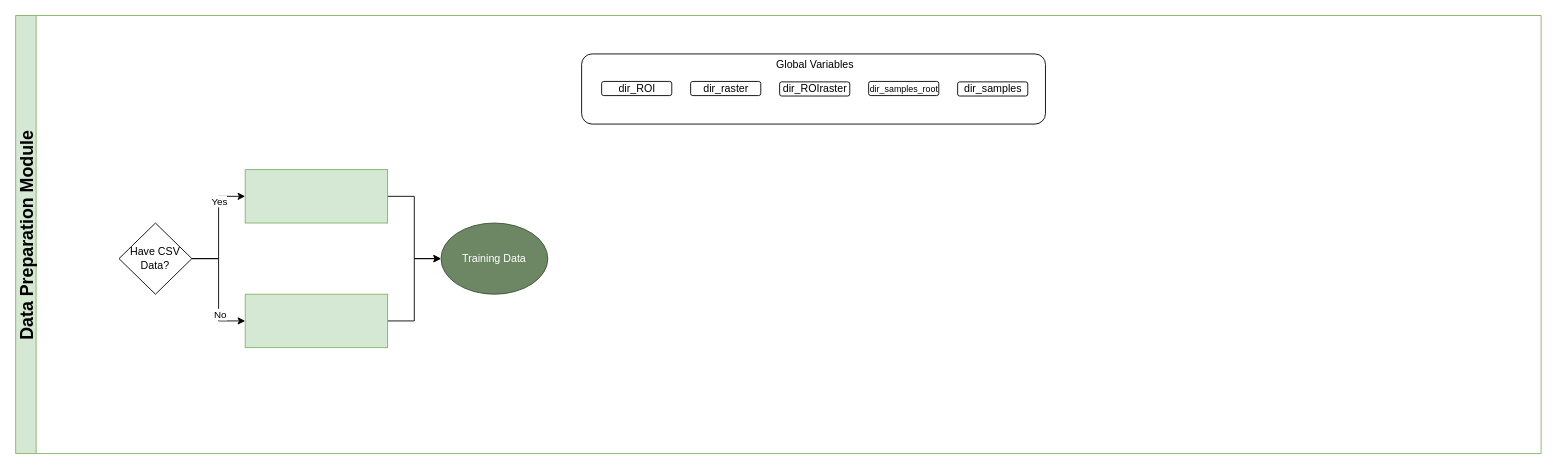
Image size: 1557x470. Some labels were removed from this diagram. Here are the shapes that lost their labels. From the top down, the centre of each, then its label:
the point at 316,196: data_training_existing
the point at 316,320: data_training_new
